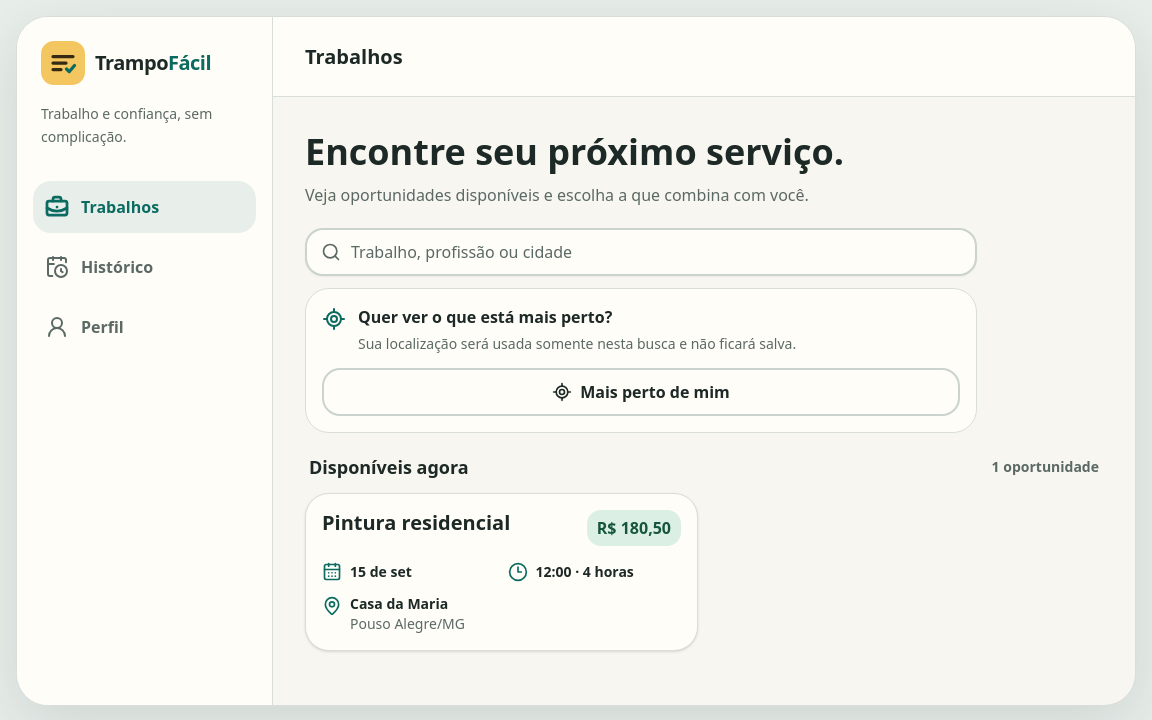
Test case: worker job flow › requests location explicitly and orders geolocated jobs by distance
The width and height of the screenshot is (1152, 720).
Expected: the link with aria-label "Ver trabalho: Pintura residencial" is shown, [305, 493, 698, 651]
Click the button "Mais perto de mim". click: click(641, 392)
box: [322, 368, 960, 416]
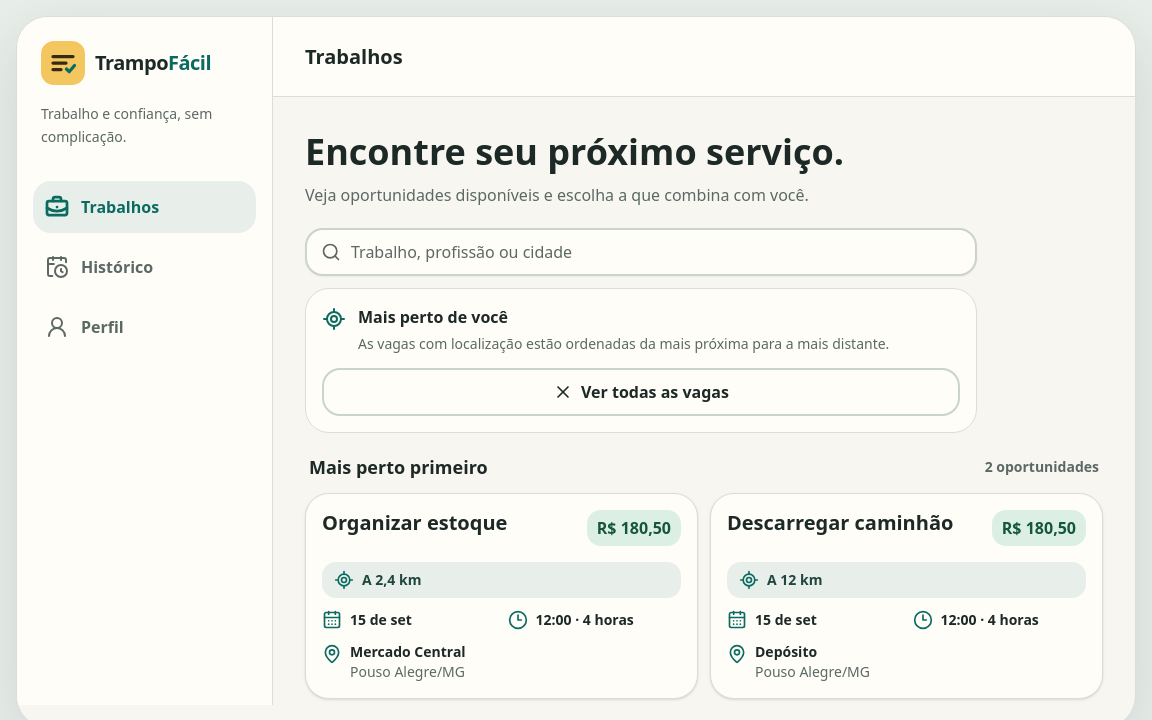
Expected: the heading "Mais perto primeiro" is shown, [309, 453, 488, 481]
Expected: the text "A 2,4 km" is shown, [362, 570, 421, 590]
Expected: the text "A 12 km" is shown, [767, 570, 822, 590]
Click the button "Ver todas as vagas". click: click(641, 392)
box: [322, 368, 960, 416]
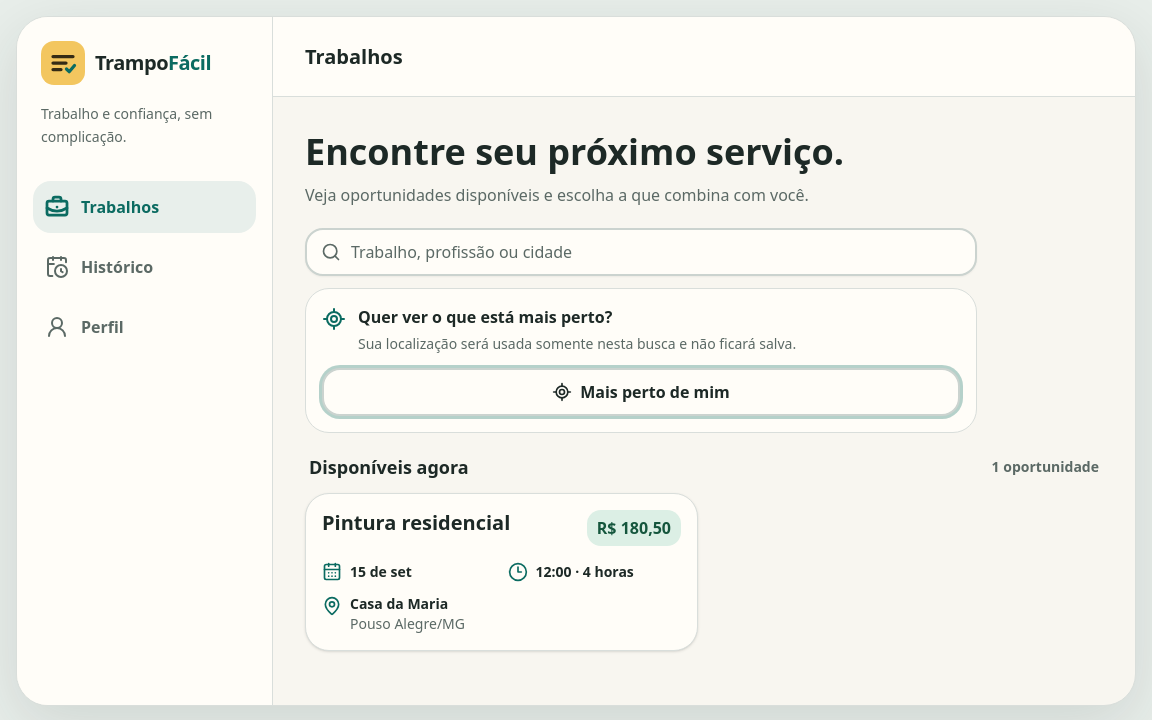
Expected: the heading "Disponíveis agora" is shown, [309, 453, 469, 481]
